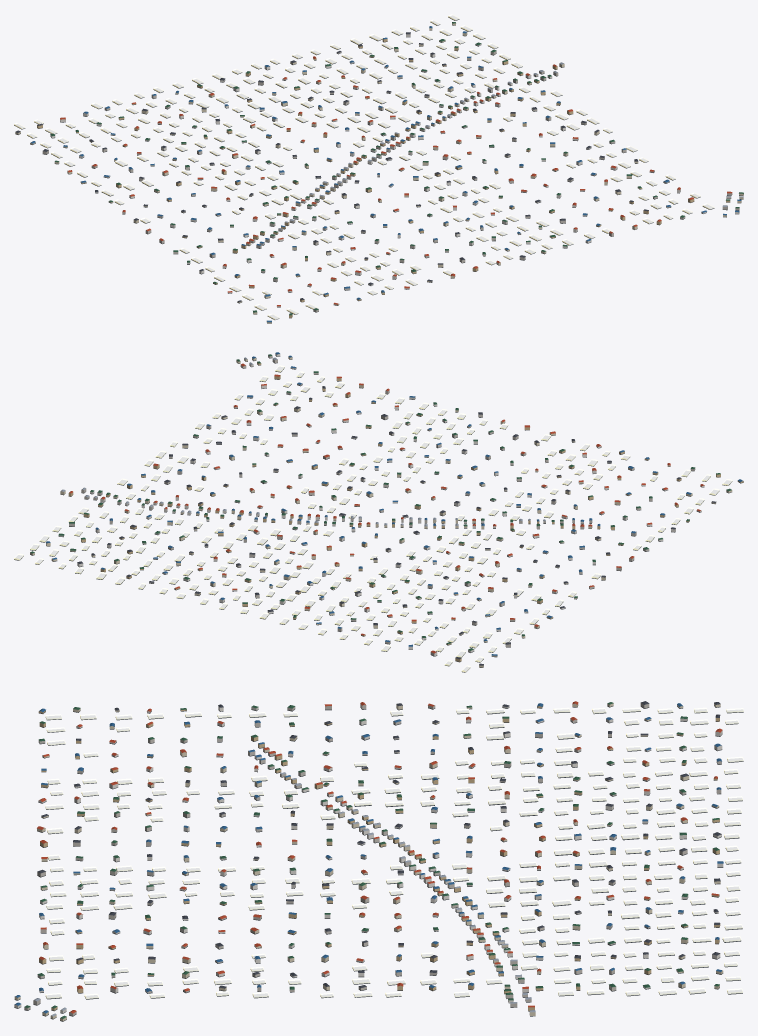
The model's file is buildings_T_W05_N05.glb.
3 views of the same model, one above another, from view 1: azimuth 30°, elevation 25°; view 2: azimuth 150°, elevation 25°; view 3: azimuth 270°, elevation 25° (orthographic). The views are drawn at different scales.
Visible parts, largest first — view 1: T_W05_N05_roofs_agri_greenhouse_arch, T_W05_N05_slope_seating_foundations, T_W05_N05_walls_wall_modern_warm_white, T_W05_N05_walls_wall_french_ochre_villa, T_W05_N05_walls_wall_dalat_cream_stucco, T_W05_N05_walls_wall_pastel_sand_gray, T_W05_N05_roofs_roof_highland_blue_gable, T_W05_N05_roofs_roof_pine_green_hip, T_W05_N05_roofs_roof_terracotta_gable, T_W05_N05_roofs_roof_slate_French_villa_hip; view 2: T_W05_N05_roofs_agri_greenhouse_arch, T_W05_N05_slope_seating_foundations, T_W05_N05_walls_wall_modern_warm_white, T_W05_N05_walls_wall_dalat_cream_stucco, T_W05_N05_walls_wall_french_ochre_villa, T_W05_N05_walls_wall_pastel_sand_gray, T_W05_N05_roofs_roof_highland_blue_gable, T_W05_N05_roofs_roof_pine_green_hip, T_W05_N05_roofs_roof_terracotta_gable, T_W05_N05_roofs_roof_slate_French_villa_hip; view 3: T_W05_N05_roofs_agri_greenhouse_arch, T_W05_N05_slope_seating_foundations, T_W05_N05_walls_wall_modern_warm_white, T_W05_N05_walls_wall_dalat_cream_stucco, T_W05_N05_walls_wall_french_ochre_villa, T_W05_N05_walls_wall_pastel_sand_gray, T_W05_N05_roofs_roof_pine_green_hip, T_W05_N05_roofs_roof_highland_blue_gable, T_W05_N05_roofs_roof_terracotta_gable, T_W05_N05_roofs_roof_slate_French_villa_hip.
Part boxes in pixels (box(x1,y1,x2,y2)): T_W05_N05_roofs_agri_greenhouse_arch: box(14, 14, 714, 319); T_W05_N05_slope_seating_foundations: box(14, 16, 743, 323); T_W05_N05_walls_wall_modern_warm_white: box(50, 34, 739, 307); T_W05_N05_walls_wall_french_ochre_villa: box(37, 38, 730, 323); T_W05_N05_walls_wall_dalat_cream_stucco: box(15, 23, 743, 314); T_W05_N05_walls_wall_pastel_sand_gray: box(42, 51, 739, 312); T_W05_N05_roofs_roof_highland_blue_gable: box(30, 26, 741, 322); T_W05_N05_roofs_roof_pine_green_hip: box(50, 22, 743, 315); T_W05_N05_roofs_roof_terracotta_gable: box(60, 56, 732, 306); T_W05_N05_roofs_roof_slate_French_villa_hip: box(15, 32, 648, 302); T_W05_N05_roofs_agri_greenhouse_arch: box(14, 365, 732, 672); T_W05_N05_slope_seating_foundations: box(14, 355, 743, 672); T_W05_N05_walls_wall_modern_warm_white: box(59, 353, 704, 656); T_W05_N05_walls_wall_dalat_cream_stucco: box(30, 356, 732, 667); T_W05_N05_walls_wall_french_ochre_villa: box(68, 362, 743, 661); T_W05_N05_walls_wall_pastel_sand_gray: box(69, 355, 695, 647); T_W05_N05_roofs_roof_highland_blue_gable: box(46, 352, 743, 655); T_W05_N05_roofs_roof_pine_green_hip: box(30, 354, 731, 650); T_W05_N05_roofs_roof_terracotta_gable: box(69, 363, 704, 653); T_W05_N05_roofs_roof_slate_French_villa_hip: box(77, 386, 716, 665); T_W05_N05_roofs_agri_greenhouse_arch: box(45, 707, 743, 998); T_W05_N05_slope_seating_foundations: box(14, 705, 743, 1021); T_W05_N05_walls_wall_modern_warm_white: box(14, 706, 723, 1013); T_W05_N05_walls_wall_dalat_cream_stucco: box(14, 703, 723, 1021); T_W05_N05_walls_wall_french_ochre_villa: box(38, 705, 720, 1010); T_W05_N05_walls_wall_pastel_sand_gray: box(24, 703, 721, 1015); T_W05_N05_roofs_roof_pine_green_hip: box(24, 702, 719, 1018); T_W05_N05_roofs_roof_highland_blue_gable: box(14, 703, 723, 1013); T_W05_N05_roofs_roof_terracotta_gable: box(37, 701, 722, 1013); T_W05_N05_roofs_roof_slate_French_villa_hip: box(37, 701, 721, 988).
Size of the model in its own units: 1867 by 41.36 by 1810.
